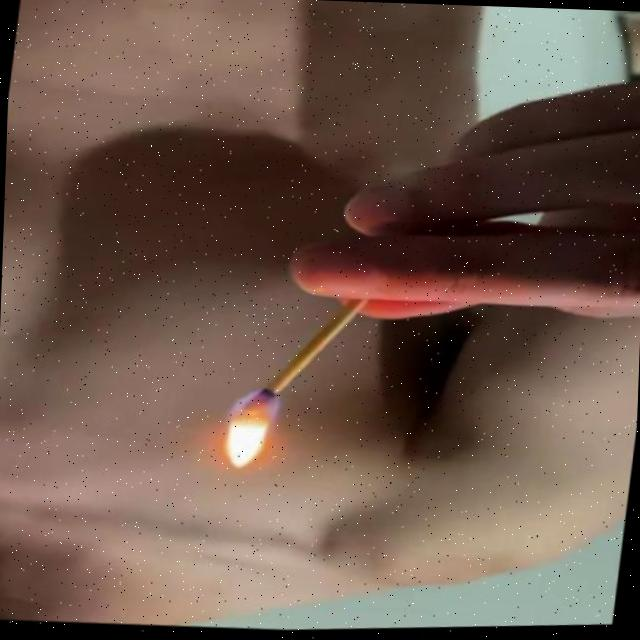fire: (221, 383, 292, 481)
